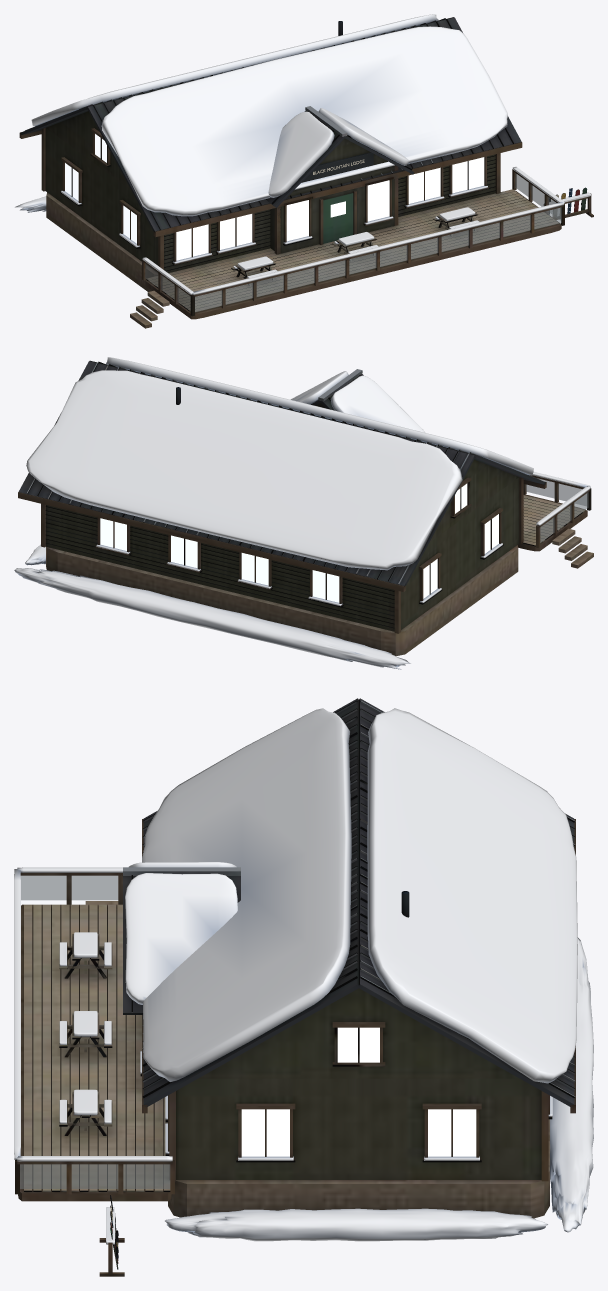
File: lap_lodge_green.glb
The picture shows the model from 3 angles, top to bottom: view 1: azimuth 30°, elevation 25°; view 2: azimuth 150°, elevation 25°; view 3: azimuth 270°, elevation 25°; orthographic projection. The views are drawn at different scales.
Visible parts, largest first — view 1: lap_lodge_green_snow, lap_lodge_green, lap_lodge_green_lit, lap_lodge_green_glass; view 2: lap_lodge_green_snow, lap_lodge_green, lap_lodge_green_lit, lap_lodge_green_glass; view 3: lap_lodge_green_snow, lap_lodge_green, lap_lodge_green_lit, lap_lodge_green_glass.
Part boxes in pixels (bbox=[...]): lap_lodge_green_snow: bbox=[15, 14, 590, 295]; lap_lodge_green: bbox=[19, 17, 593, 328]; lap_lodge_green_lit: bbox=[65, 134, 484, 260]; lap_lodge_green_glass: bbox=[145, 173, 561, 311]; lap_lodge_green_snow: bbox=[14, 357, 590, 669]; lap_lodge_green: bbox=[18, 360, 593, 656]; lap_lodge_green_lit: bbox=[100, 483, 498, 602]; lap_lodge_green_glass: bbox=[526, 478, 588, 542]; lap_lodge_green_snow: bbox=[14, 708, 593, 1244]; lap_lodge_green: bbox=[15, 698, 575, 1276]; lap_lodge_green_lit: bbox=[241, 1027, 476, 1156]; lap_lodge_green_glass: bbox=[20, 875, 170, 1188].
Size of the model in its own units: 26.92 by 9.59 by 18.68.
5 materials, 1 textured.
